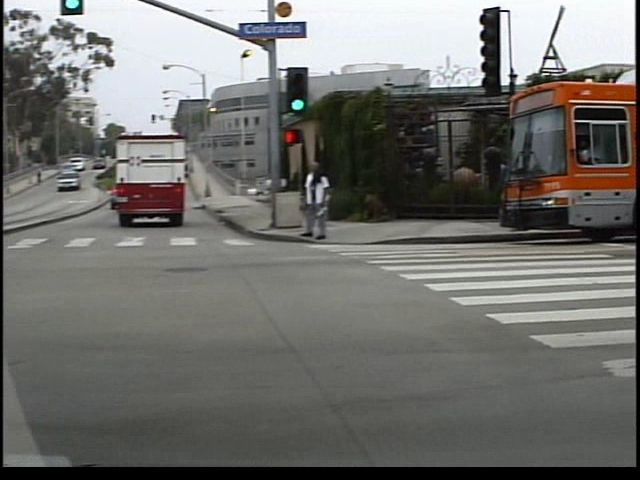person: (306, 156, 338, 241)
